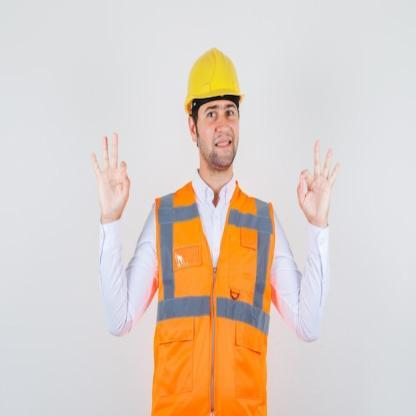ok: (88, 132, 134, 226), (297, 135, 341, 232)
